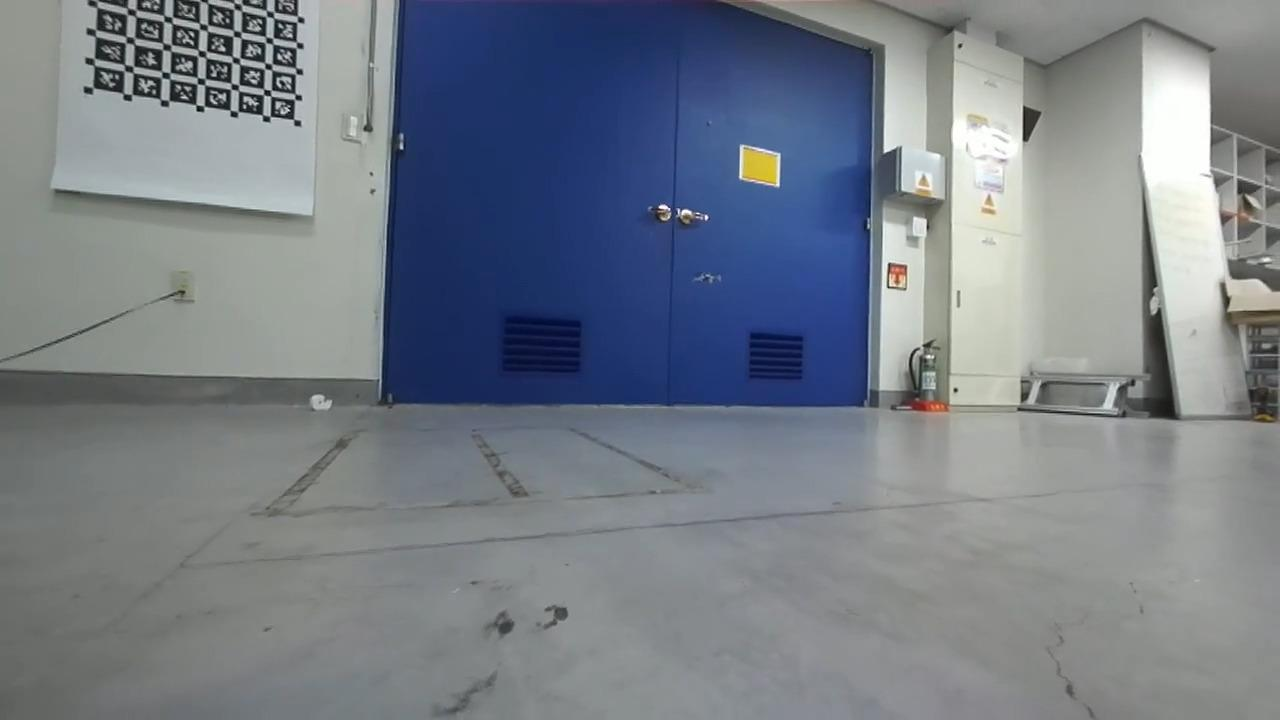crazyflie: (682, 264, 731, 291)
